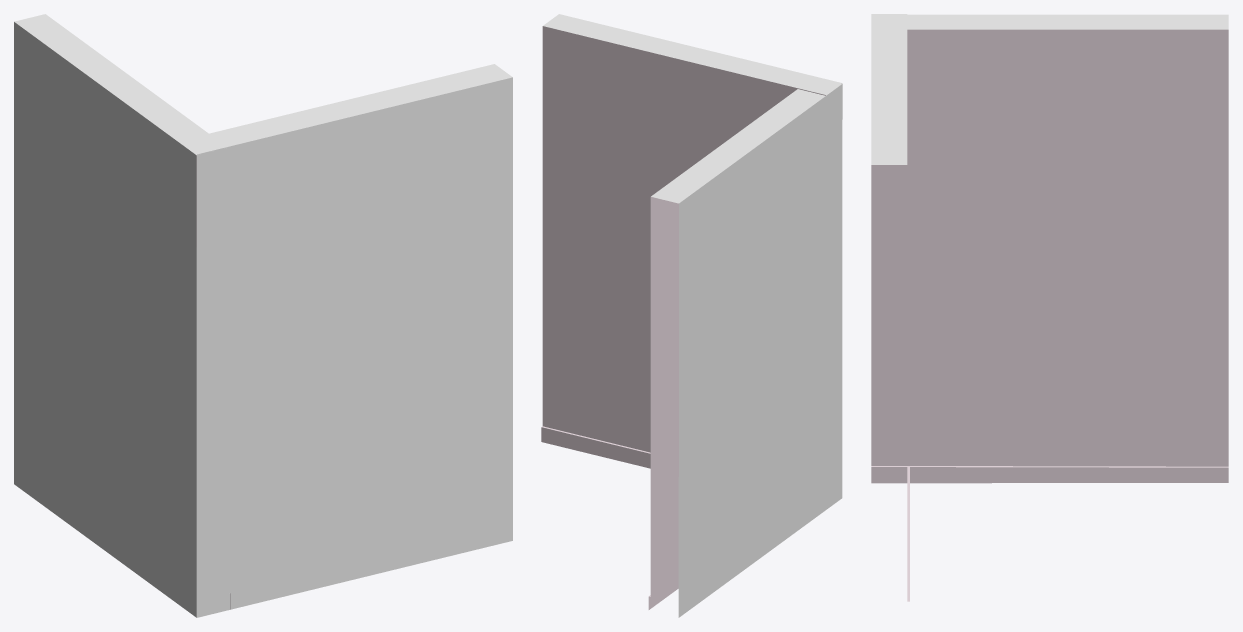
File: env_wall_2m_L_final.fbx
3 views of the same model, side by side, from view 1: azimuth 30°, elevation 25°; view 2: azimuth 150°, elevation 25°; view 3: azimuth 270°, elevation 25° (orthographic). The views are drawn at different scales.
Parts seen in each view (by area): view 1: Casa pared 2m Exterior.001; view 2: Casa pared 2m Exterior.001; view 3: Casa pared 2m Exterior.001.
Part boxes in pixels (bbox=[...]): Casa pared 2m Exterior.001: bbox=[14, 14, 512, 617]; Casa pared 2m Exterior.001: bbox=[541, 14, 842, 617]; Casa pared 2m Exterior.001: bbox=[871, 14, 1228, 601].
Bounding box in the file's own units: 200 × 280 × 200.
2 materials, 2 textured.
